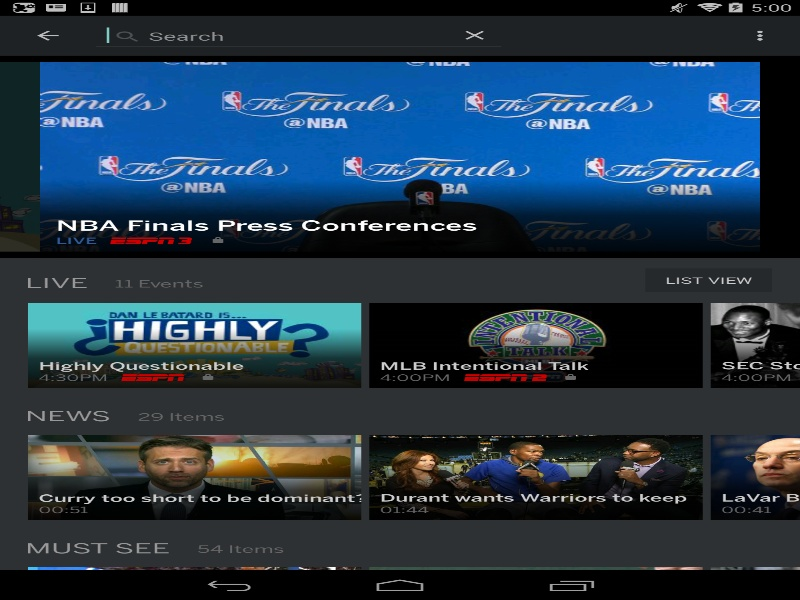Button: (645, 268, 772, 292), (10, 15, 85, 55)
Input: (96, 24, 448, 46)
